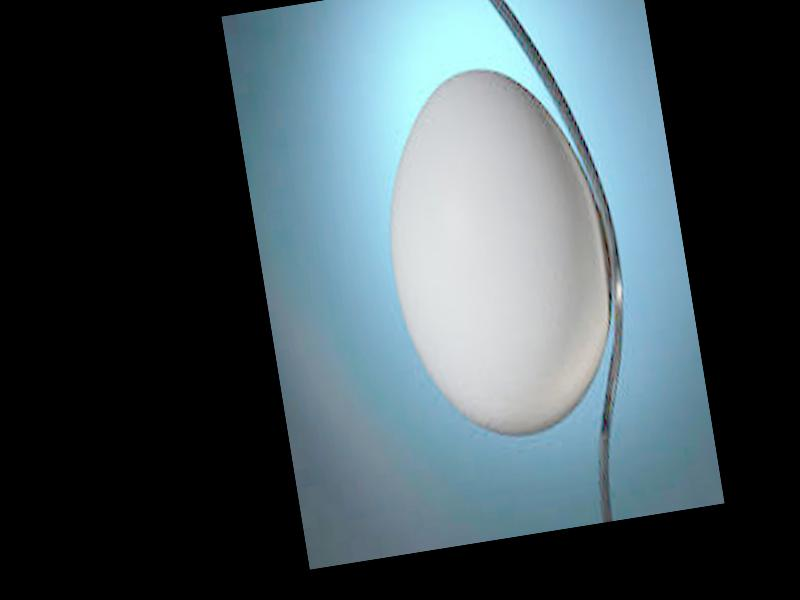Eggs: (367, 53, 631, 450)
